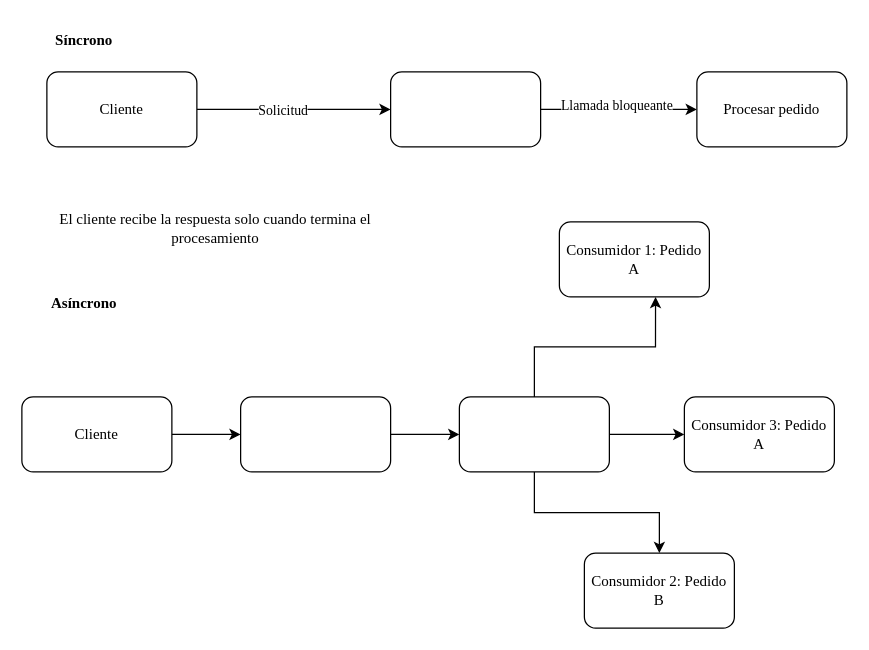
The diagram is 869 pixels wide and 650 high, and some of its shapes have lost their labels. Each missing label, with the box of its shape:
Aplicación: (239, 396, 391, 472)
Aplicación/servidor: (389, 71, 541, 147)
RabbitMQ cola de pedidos: (458, 396, 609, 472)
